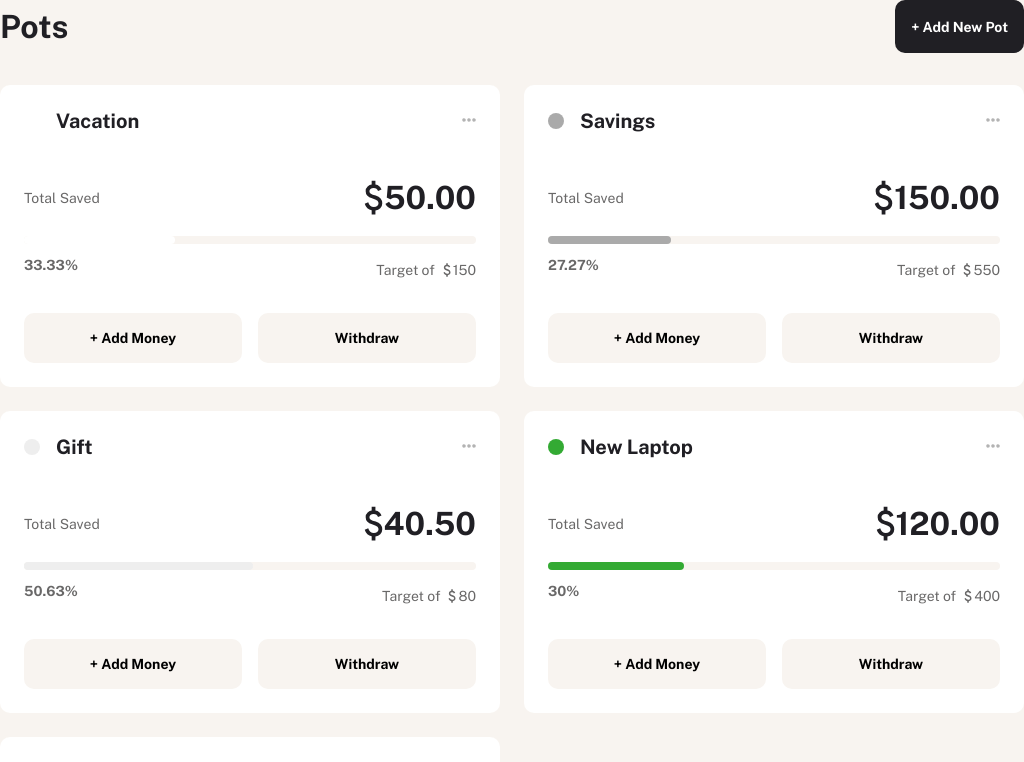
pot component tests › test clicking withdraw button displays withdraw form
Click the button with test id "withdraw-btn" below "33.33" at (367, 338), box top-left (258, 313), bottom-right (476, 363)
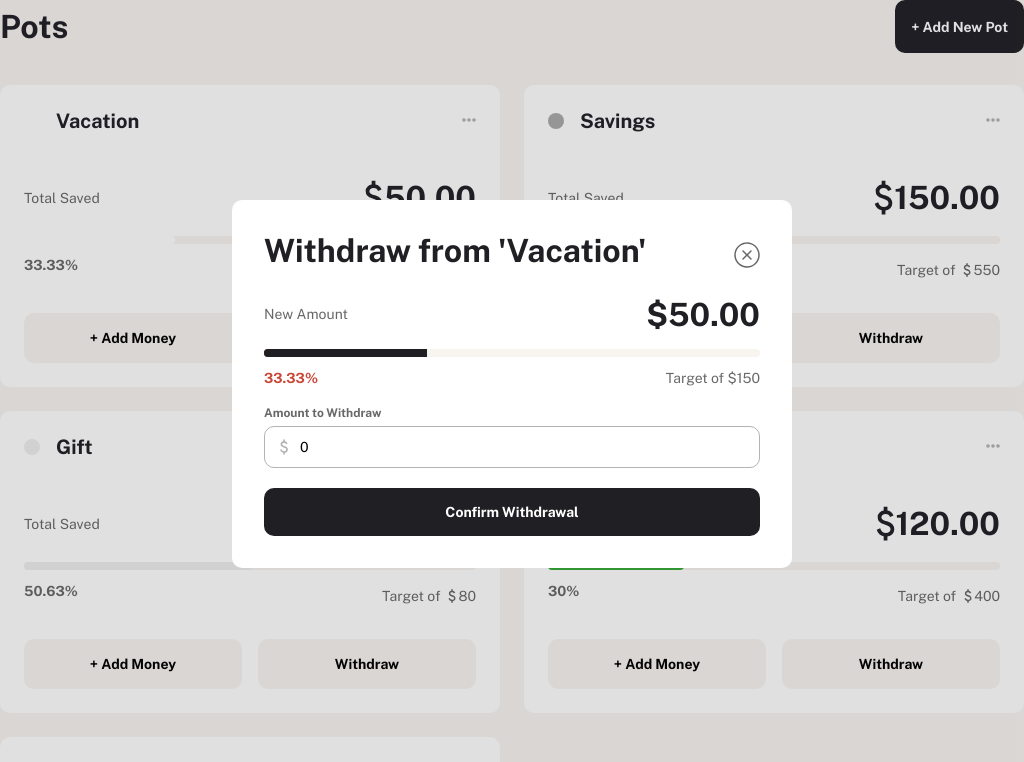
Check: the form with test id "withdraw-form" is shown, box top-left (232, 200), bottom-right (792, 568)
